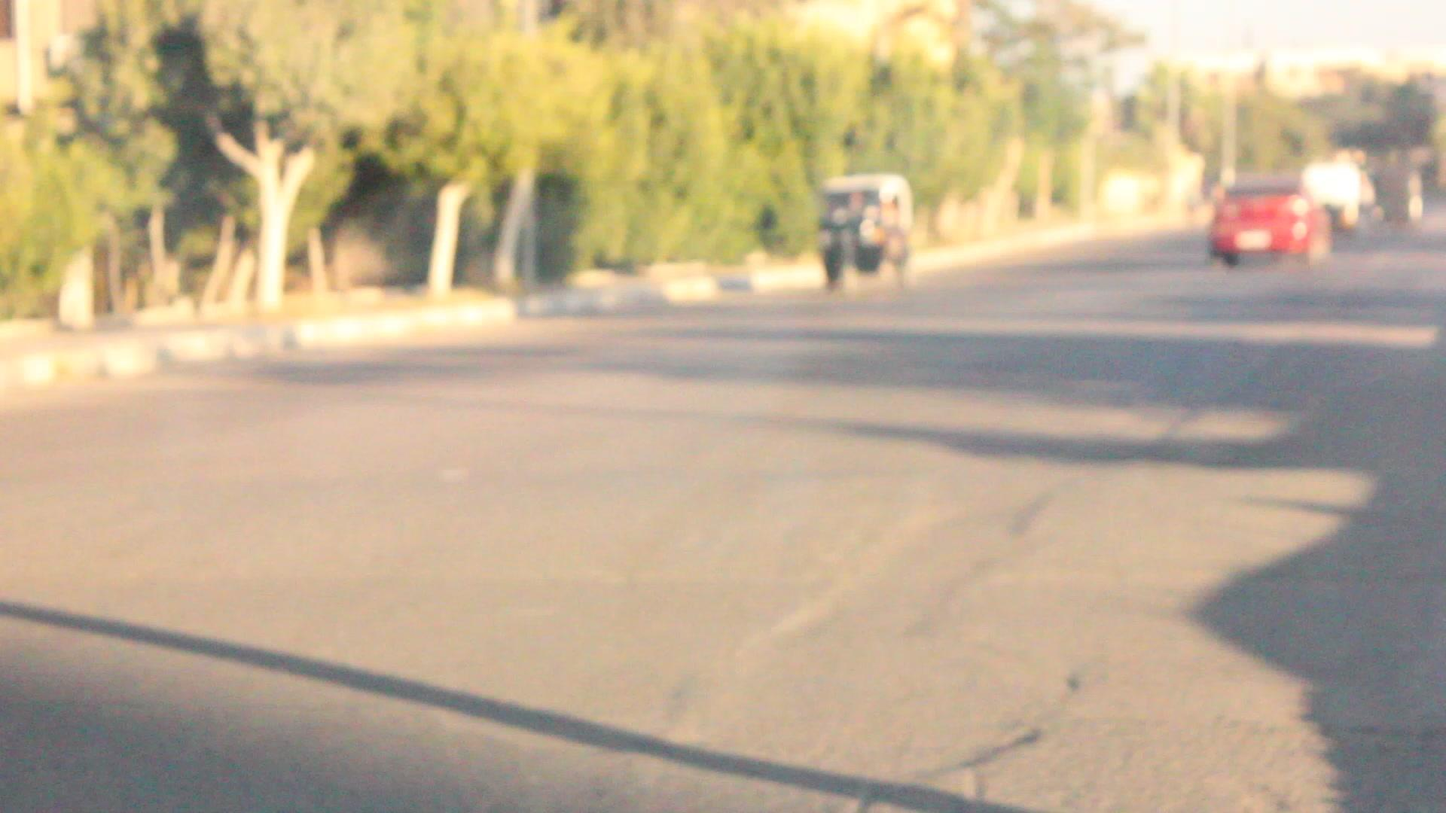Pothole: (642, 480, 1075, 812)
